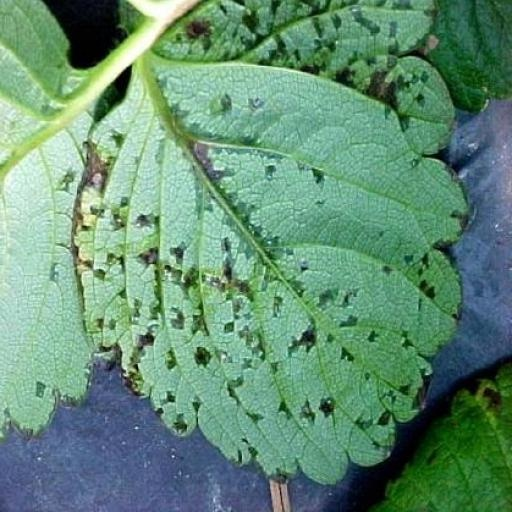Angular Leafspot: (35, 26, 443, 511), (391, 66, 511, 511)
